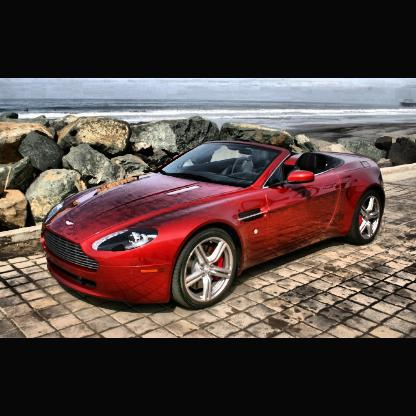Aston Martin V8 Vantage Convertible 2012: (43, 142, 388, 313)
